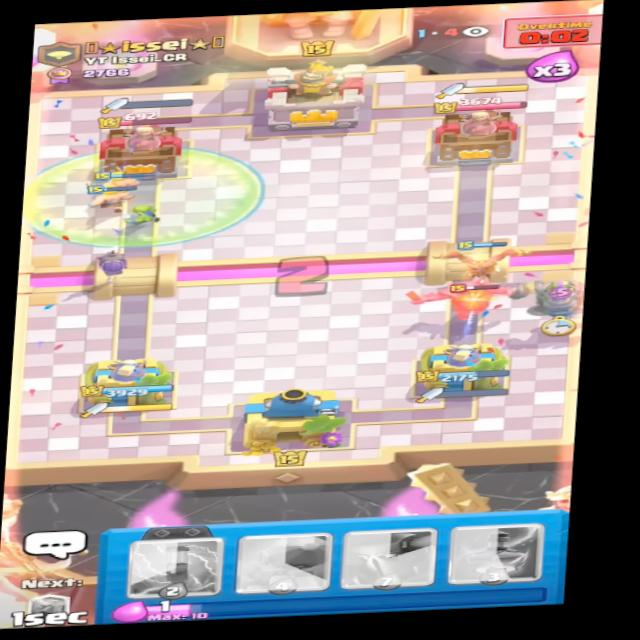pekka: (425, 273, 514, 315)
